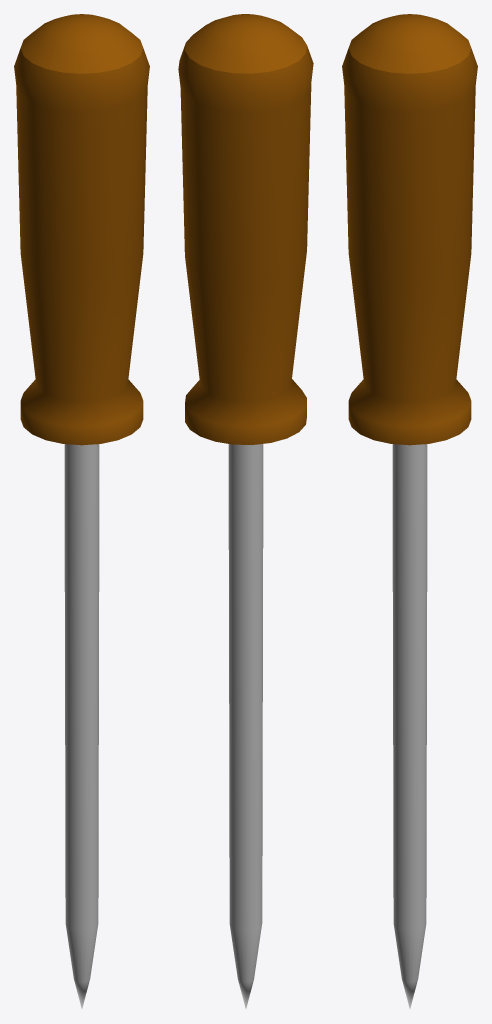
File: icePick.fbx
3 views of the same model, side by side, from view 1: azimuth 90°, elevation 25°; view 2: azimuth 150°, elevation 25°; view 3: azimuth 270°, elevation 25° (orthographic).
Visible parts, largest first — view 1: handle, pick; view 2: handle, pick; view 3: handle, pick.
Boxes of the visible parts, x1,y1,x2,y2 form: handle: (14,14,149,445); pick: (64,444,99,1008); handle: (178,14,313,444); pick: (228,444,263,1008); handle: (342,14,477,445); pick: (392,444,427,1008).
Bounding box in the file's own units: 0.1805 × 1.45 × 0.1805.
